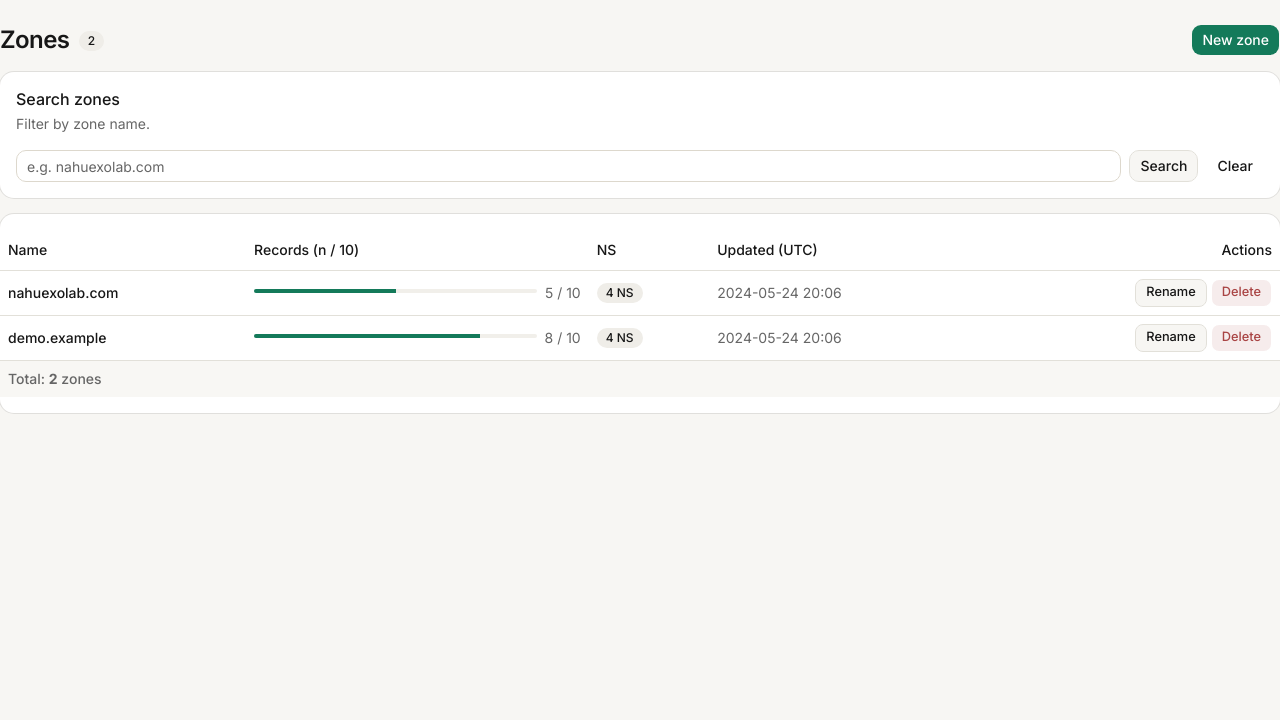
Test: ZonesPage › creates a zone and shows server errors
Expected: the text "nahuexolab.com" is shown, [0, 270, 246, 315]
Click the button "New zone" at (1236, 40), box [1191, 24, 1279, 56]
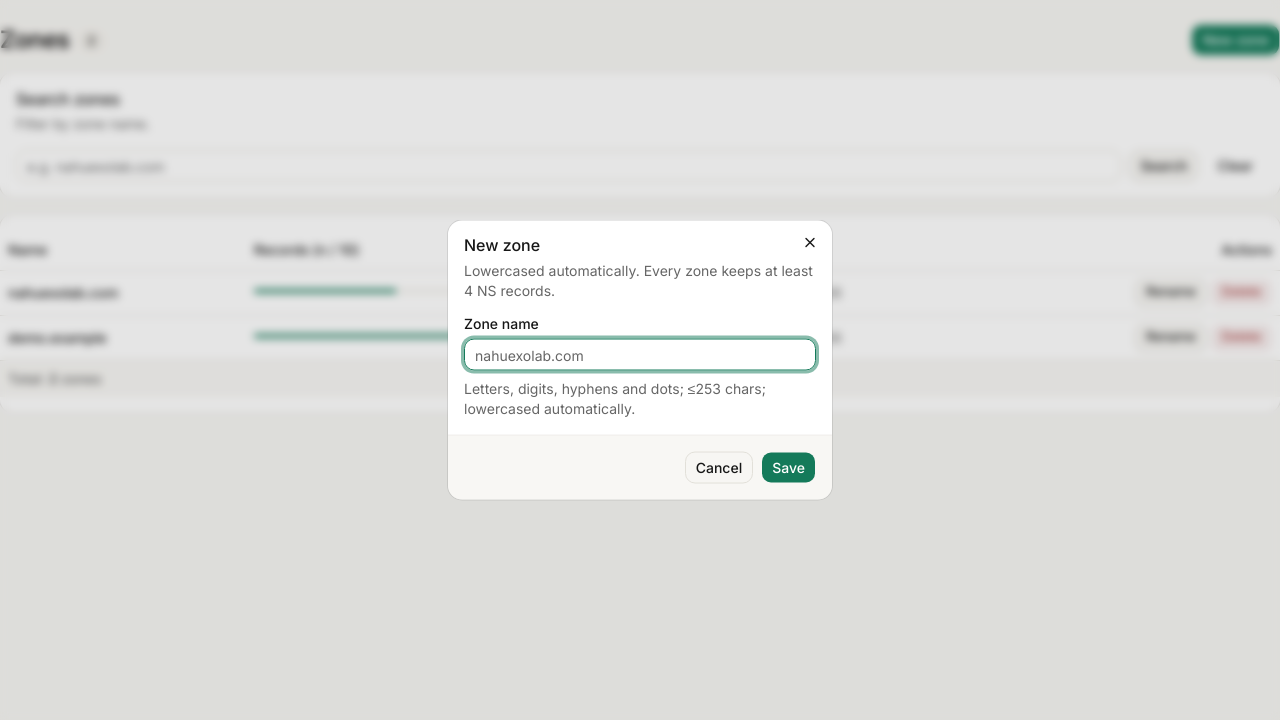
Type "new.example" into the field labelled "Zone name" at (640, 354), box [464, 338, 816, 370]
Click the button "Save" at (789, 468), box [761, 452, 816, 484]
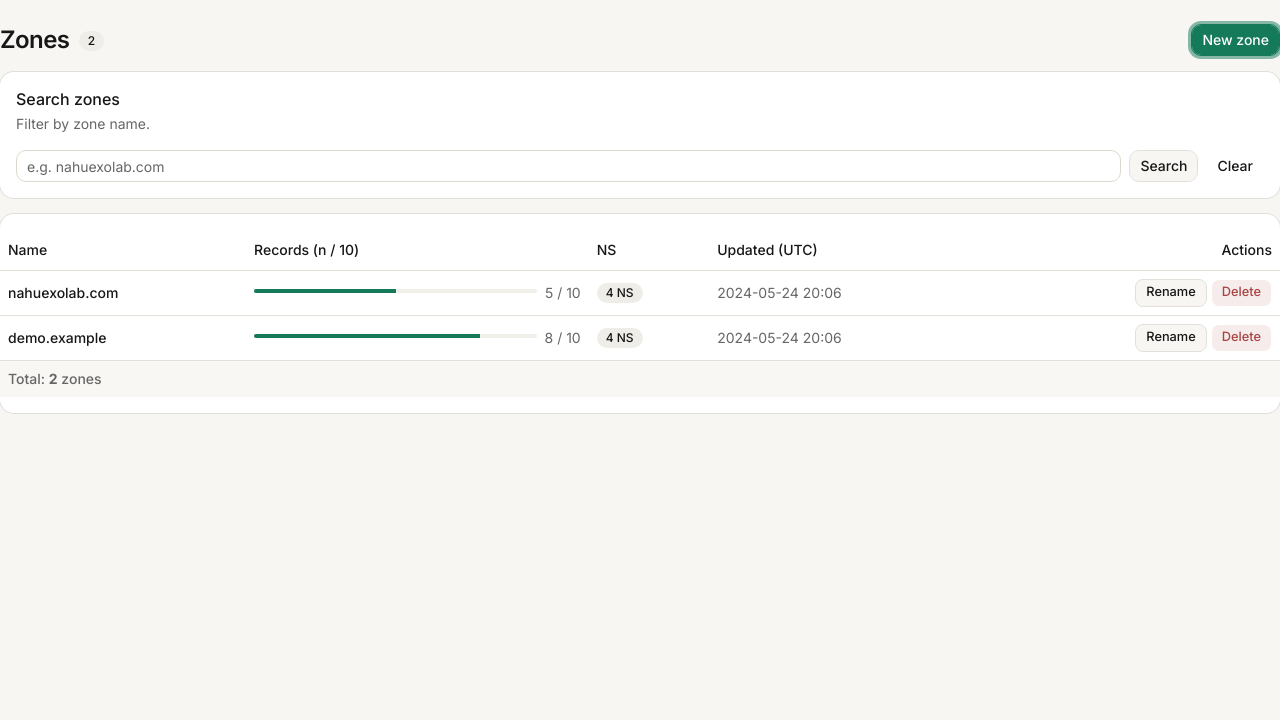
Click the button "New zone" at (1236, 40), box [1191, 24, 1279, 56]
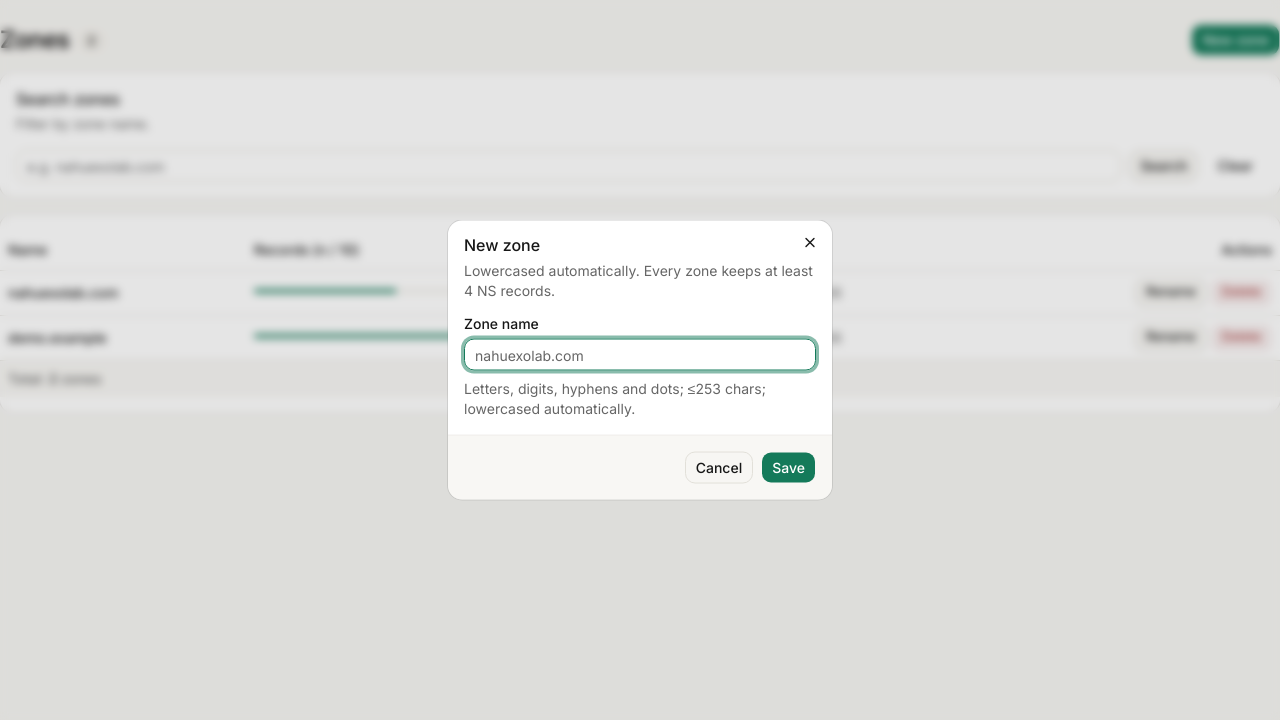
Now the field labelled "Zone name" is empty
Type "dup.example" into the field labelled "Zone name" at (640, 354), box [464, 338, 816, 370]
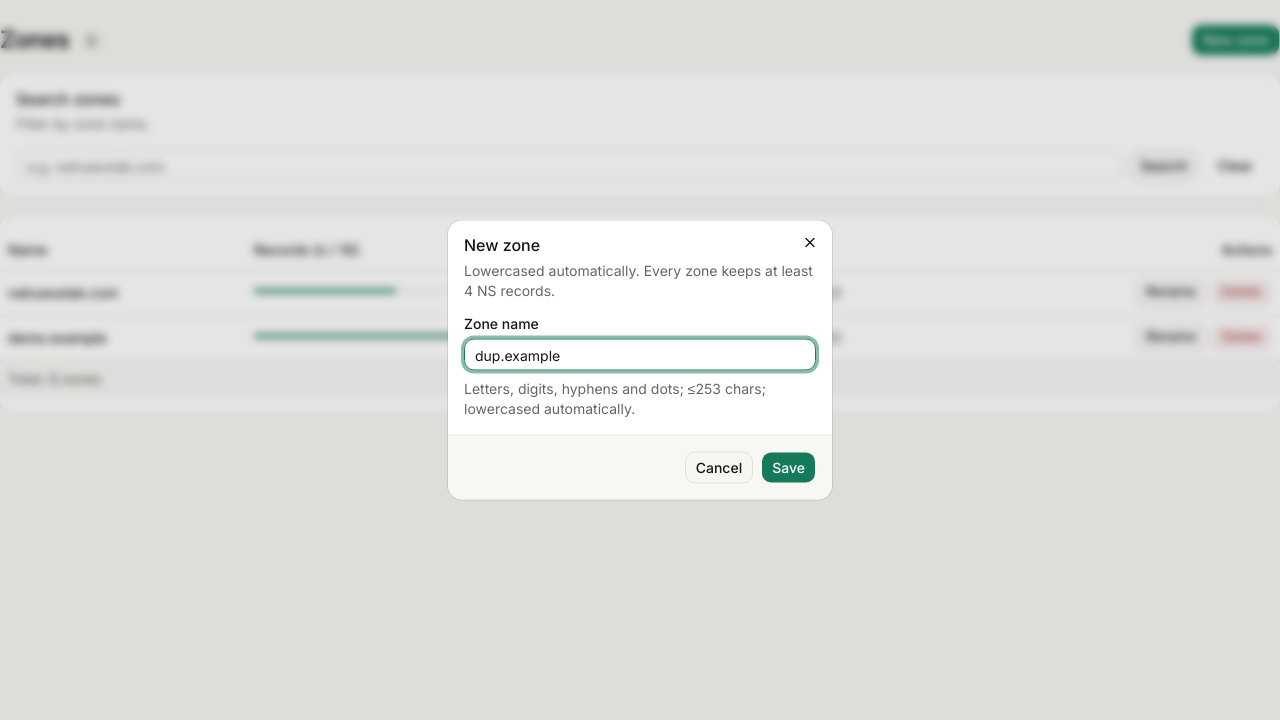
Click the button "Save" at (789, 468), box [761, 452, 816, 484]
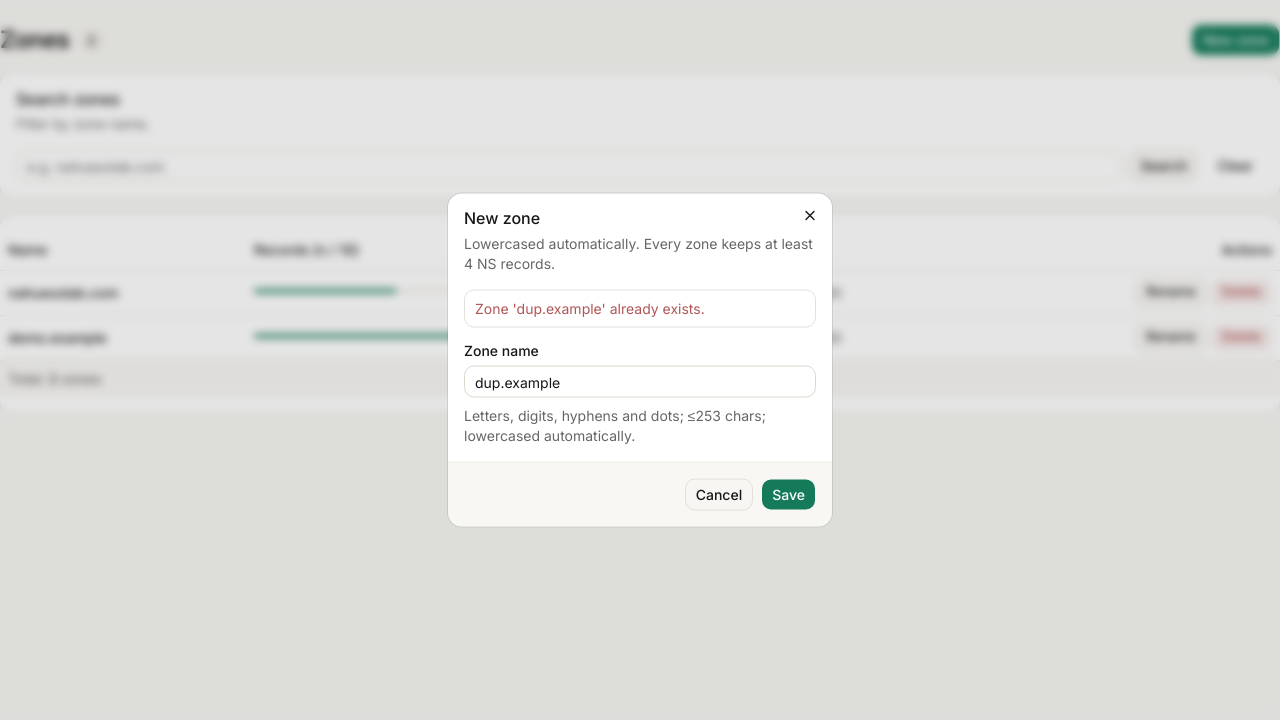
Now the text "Zone 'dup.example' already exists." is shown, box [475, 300, 705, 316]
Click the button "Cancel" at (719, 494), box [685, 478, 753, 510]
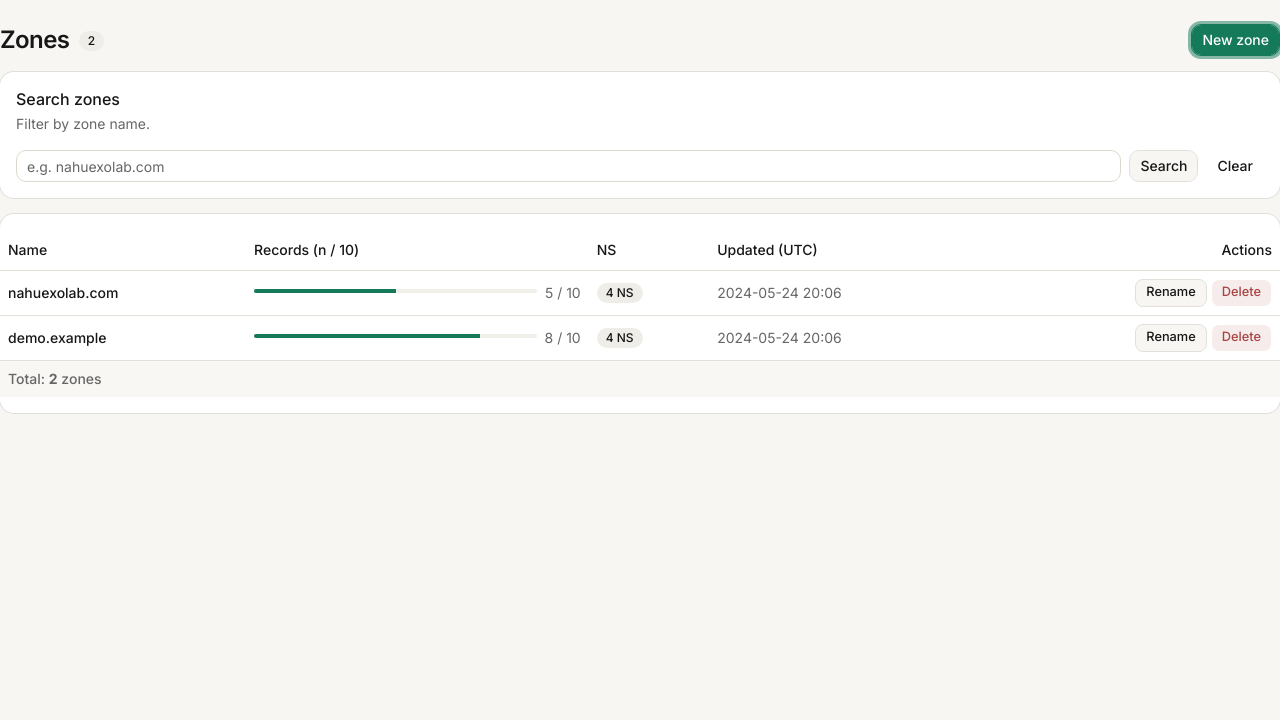
Now the dialog is gone
